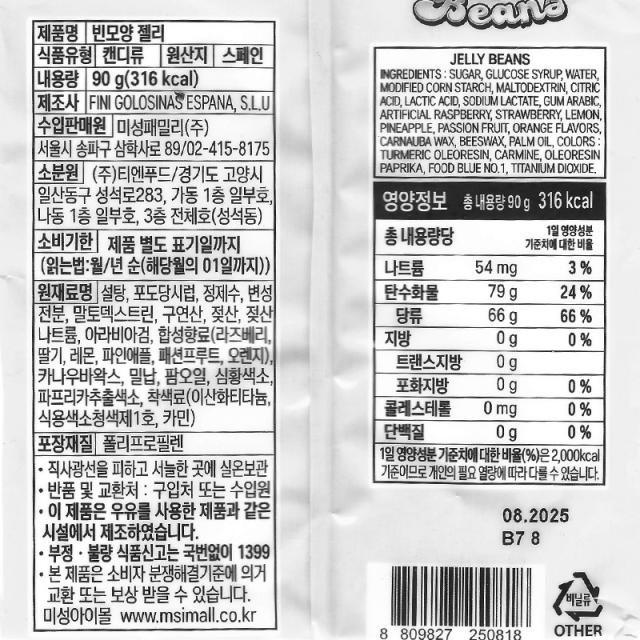Nutrition Label: (366, 181, 615, 487)
